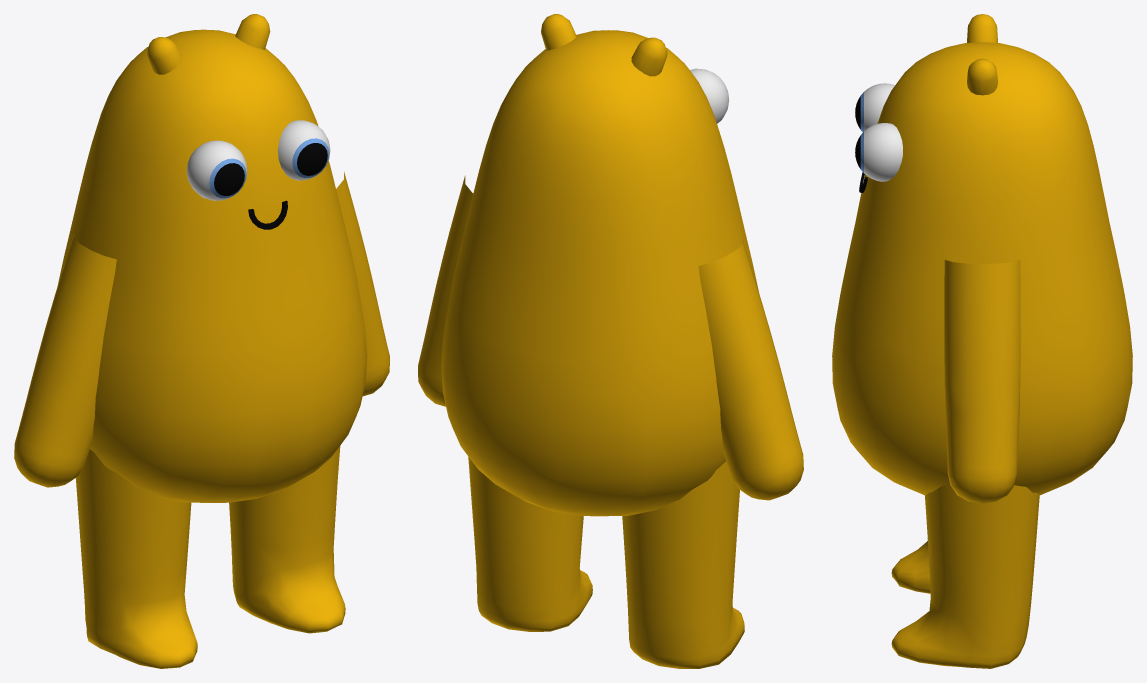
The model's file is 0_anim.gltf.
The picture shows the model from 3 angles, left to right: view 1: azimuth 30°, elevation 25°; view 2: azimuth 150°, elevation 25°; view 3: azimuth 270°, elevation 25°; orthographic projection. The views are drawn at different scales.
Parts seen in each view (by area): view 1: body, Legs, arms, eyes-lambert2 (×3), arms.1, ears; view 2: body, Legs, arms, arms.1, ears, eyes-lambert2; view 3: body, Legs, arms.1, eyes-lambert2, ears.
Boxes of the visible parts, box(x1,y1,x2,y2) form: body: box(57, 29, 367, 502); Legs: box(75, 446, 345, 668); arms: box(14, 234, 116, 487); eyes-lambert2 (×3): box(187, 120, 330, 200); arms.1: box(336, 172, 389, 396); ears: box(147, 14, 270, 74); body: box(441, 30, 758, 516); Legs: box(468, 457, 744, 668); arms: box(698, 240, 803, 500); arms.1: box(418, 175, 473, 406); ears: box(541, 14, 667, 76); eyes-lambert2: box(690, 68, 729, 123); body: box(832, 42, 1132, 495); Legs: box(891, 485, 1039, 668); arms.1: box(944, 260, 1020, 503); eyes-lambert2: box(864, 83, 902, 181); ears: box(967, 14, 997, 95).
Size of the model in its own units: 1.65 by 2.54 by 1.2.
